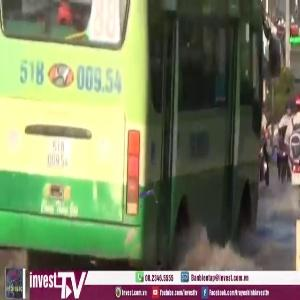drone: (125, 168, 172, 215)
